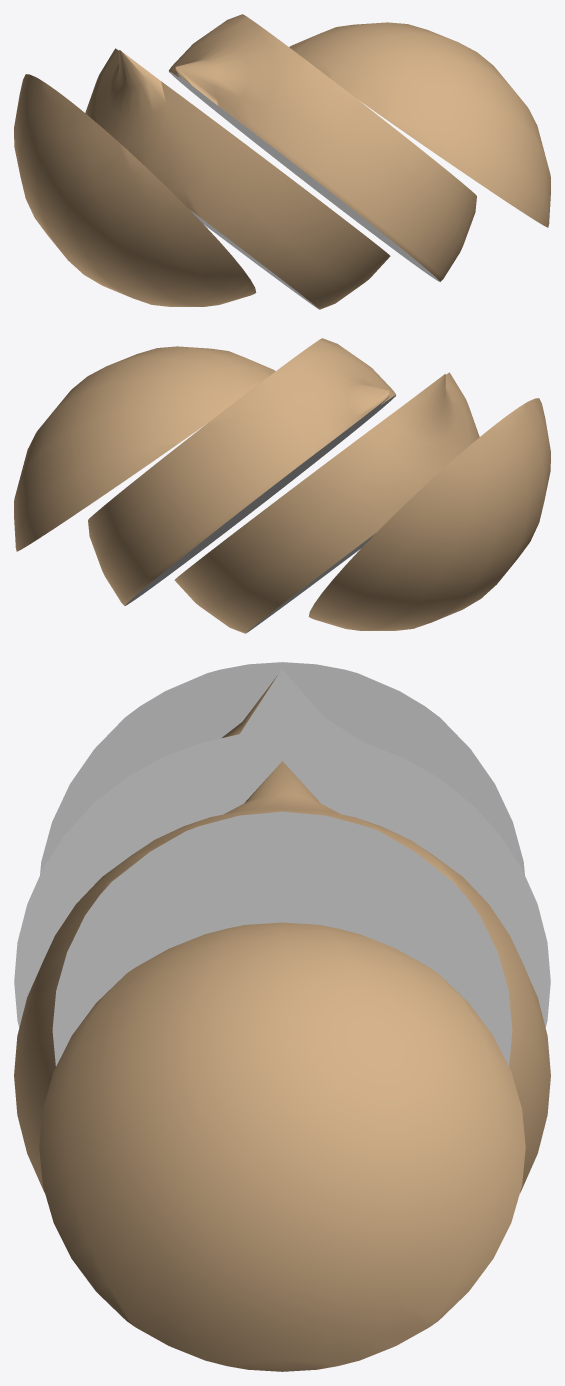
File: CutOnion.fbx
The picture shows the model from 3 angles, top to bottom: view 1: azimuth 30°, elevation 25°; view 2: azimuth 150°, elevation 25°; view 3: azimuth 270°, elevation 25°; orthographic projection. The views are drawn at different scales.
Visible parts, largest first — view 1: pSphere12; view 2: pSphere12; view 3: pSphere12.
Boxes of the visible parts, x1,y1,x2,y2 form: pSphere12: (14,14,550,309); pSphere12: (14,338,550,633); pSphere12: (14,662,550,1371).
Bounding box in the file's own units: 3 × 1.66 × 1.82.
